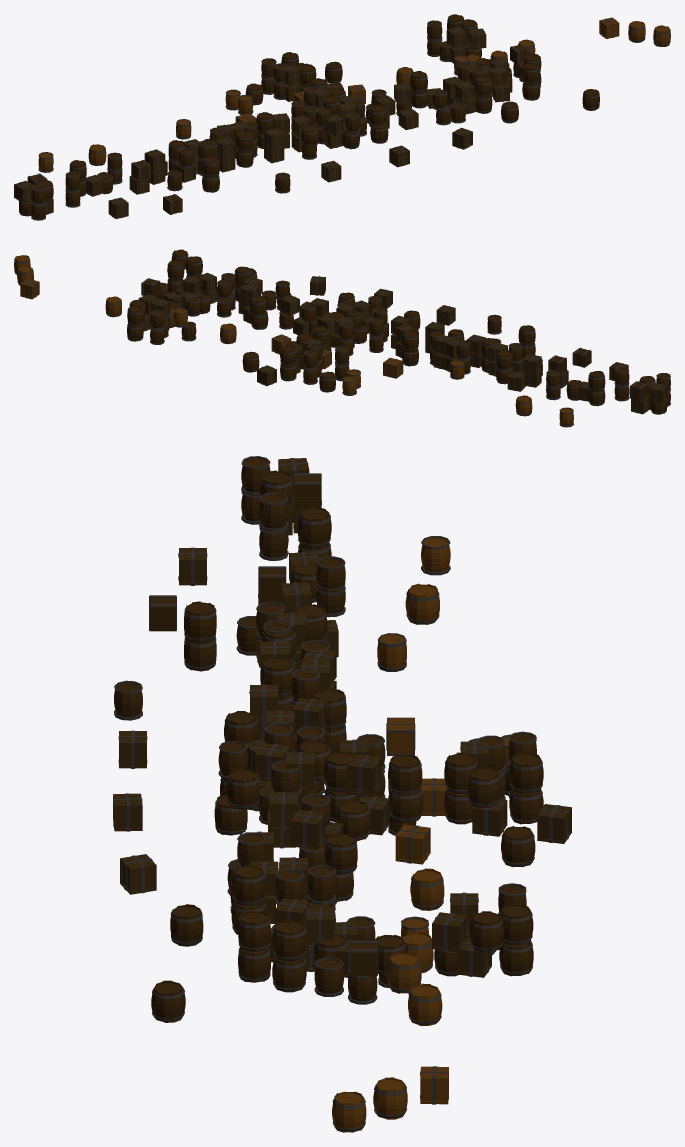
File: DogLevelBarrels.glb
3 renders of one model, top to bottom at view 1: azimuth 30°, elevation 25°; view 2: azimuth 150°, elevation 25°; view 3: azimuth 270°, elevation 25°, orthographic. The views are drawn at different scales.
Parts seen in each view (by area): view 1: Wooden Crate 3.268; view 2: Wooden Crate 3.268; view 3: Wooden Crate 3.268.
Boxes of the visible parts, x1,y1,x2,y2 form: Wooden Crate 3.268: [14, 14, 670, 220]; Wooden Crate 3.268: [14, 249, 670, 427]; Wooden Crate 3.268: [113, 456, 571, 1132].
Size of the model in its own units: 26.15 by 1.85 by 8.17.
